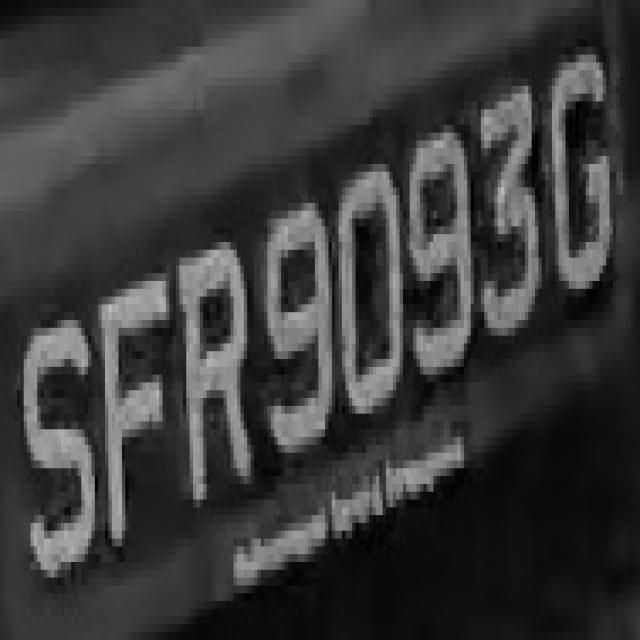0: (325, 148, 410, 445)
3: (467, 54, 545, 374)
9: (396, 117, 481, 390), (257, 180, 332, 476)
F: (99, 242, 170, 578)
G: (538, 31, 616, 336)
R: (173, 211, 257, 523)
S: (10, 288, 102, 578)
